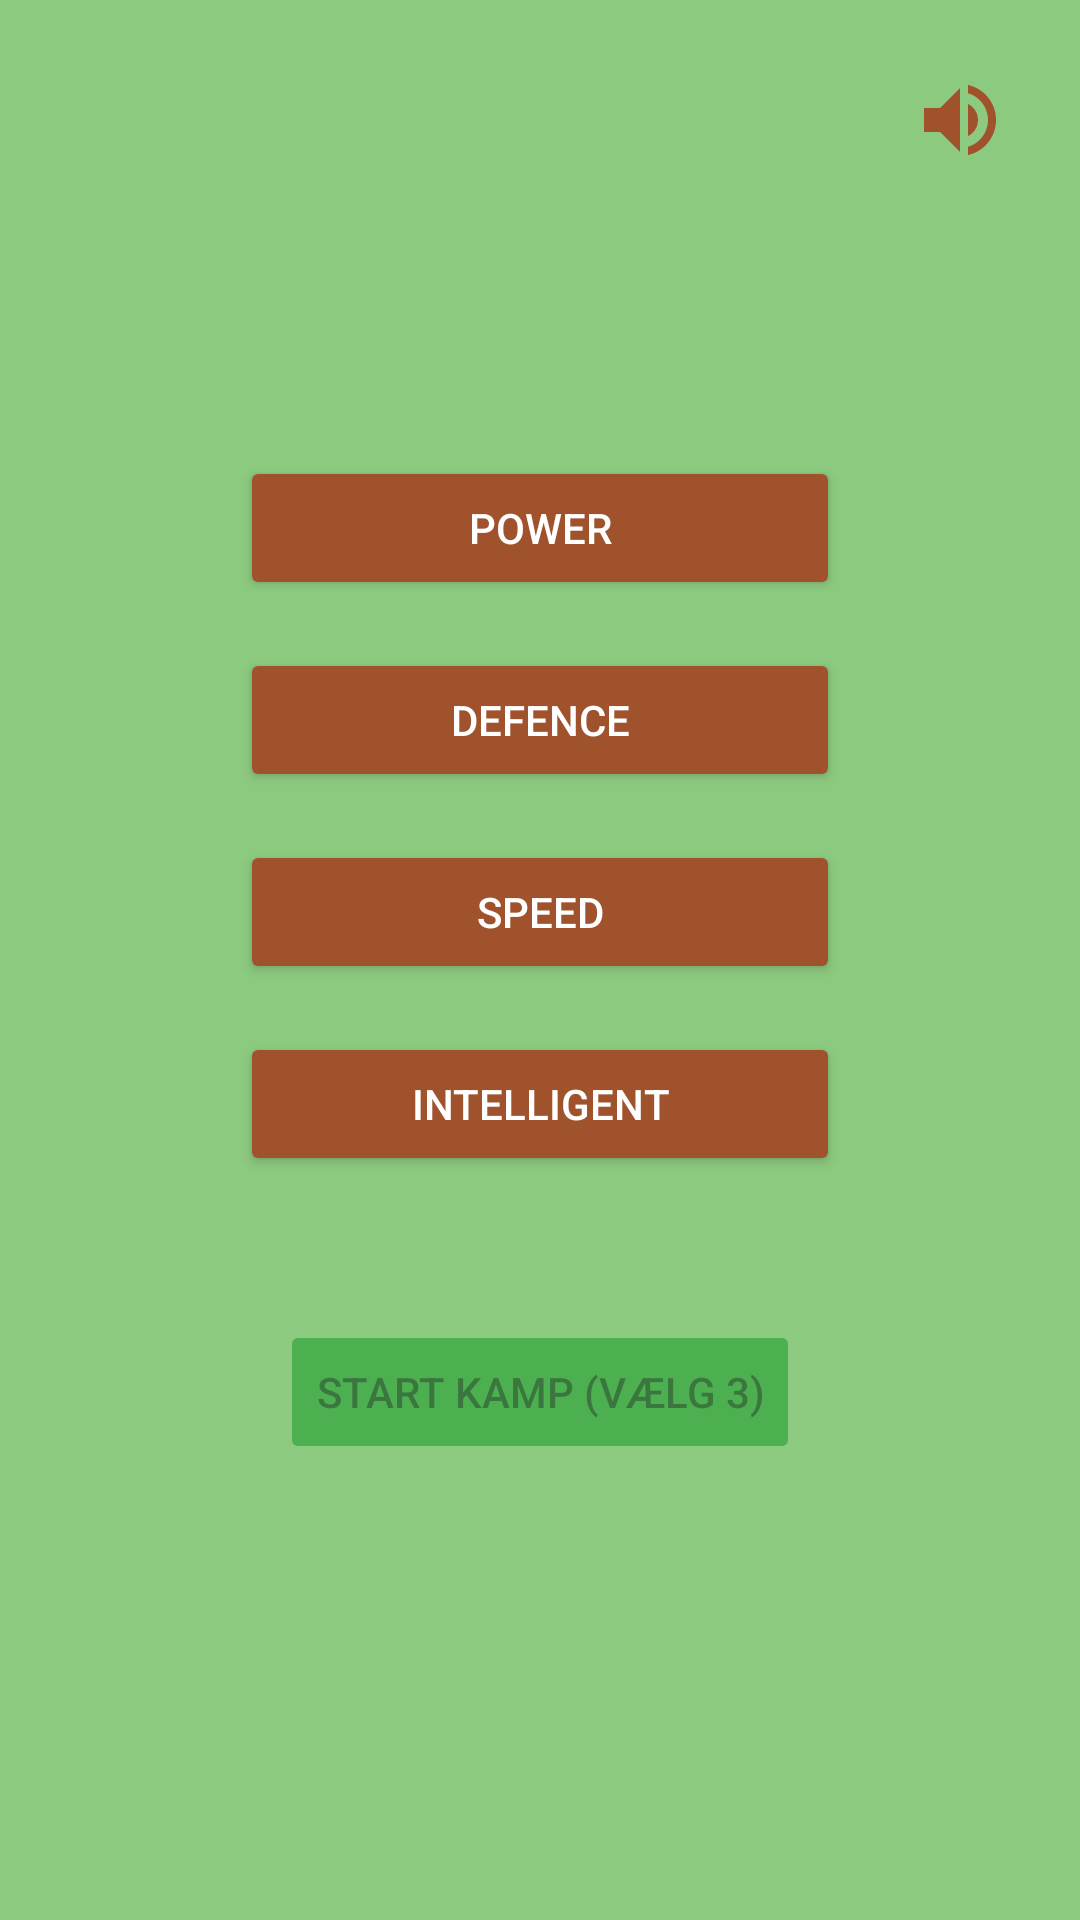

Named icons in this screenshot (1080 x 1920) and their bounding boxes, bbox=[x1, y1, x2, y2]:
Mute toggle: bbox=[924, 85, 996, 155]
